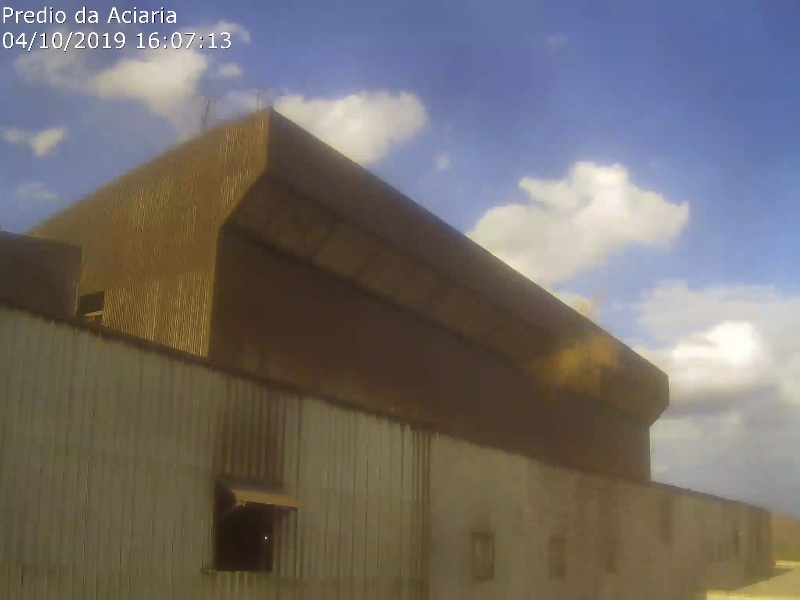bom: (243, 32, 513, 288), (1, 1, 270, 256)
ruim: (527, 273, 661, 411)
